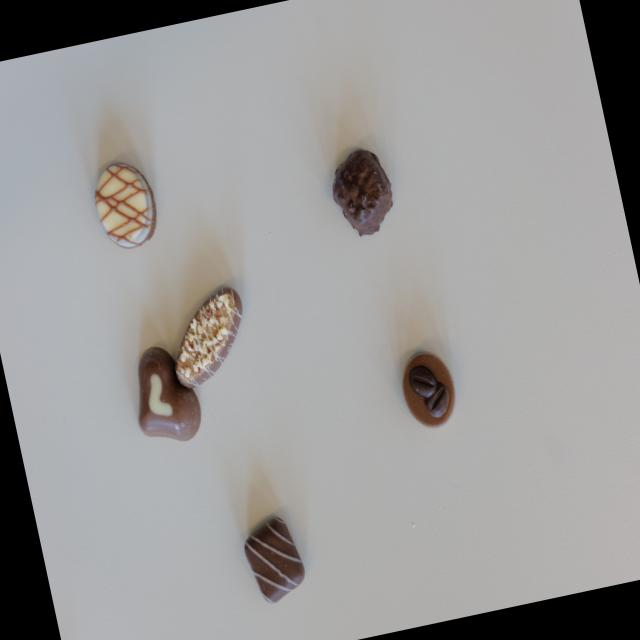Amandina: (160, 281, 258, 389)
Arabia: (395, 346, 460, 431)
Creme_brulee: (86, 156, 160, 255)
Passion_au_lait: (122, 338, 206, 451)
Stracciatella: (238, 513, 310, 607)
Tentation_noir: (324, 144, 399, 238)
